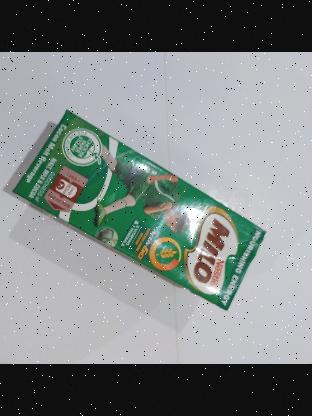Others: (13, 110, 265, 310)
